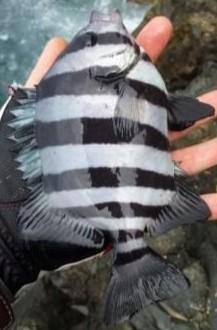fish: (7, 8, 216, 326)
